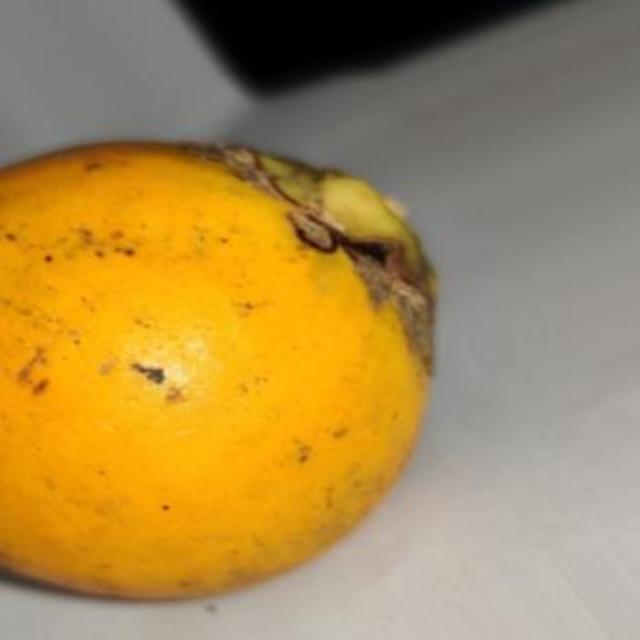good: (0, 143, 439, 602)
